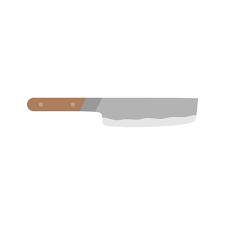Knife: (26, 97, 198, 125)
